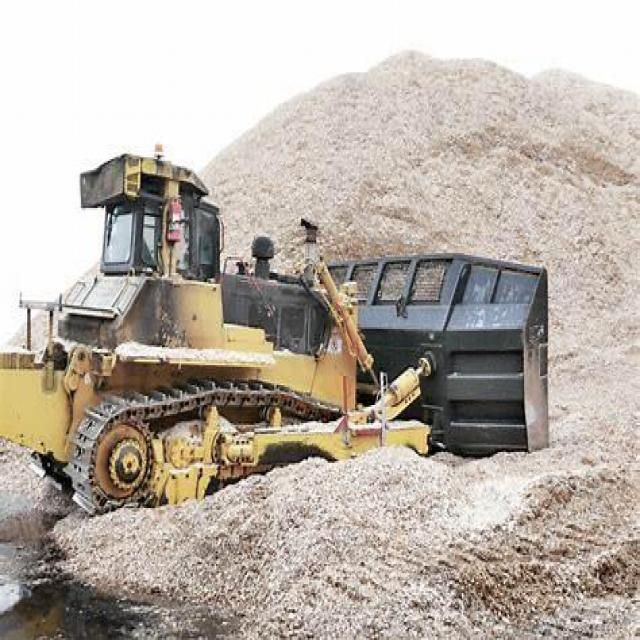Bulldozer: (12, 119, 566, 528)
